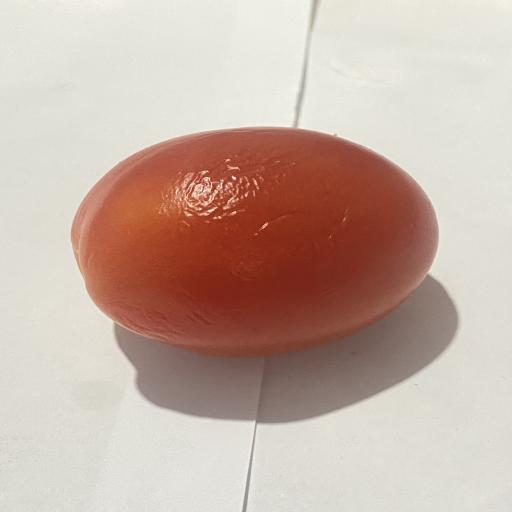spoiled: (71, 127, 438, 356)
